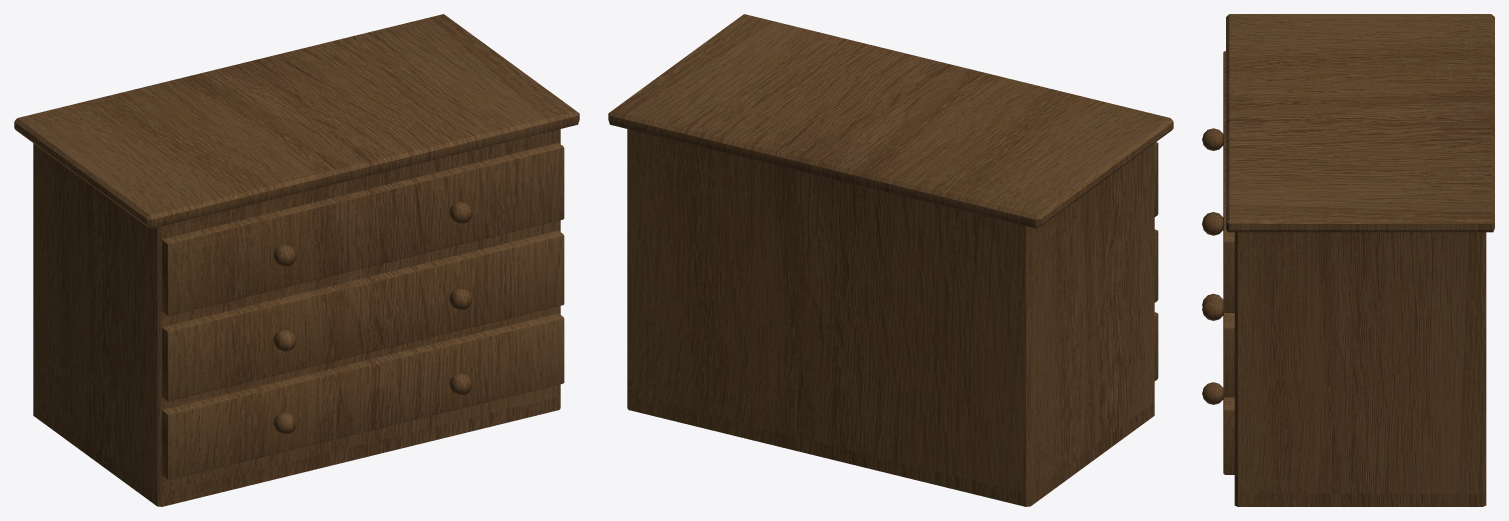
The model's file is Drawer2.fbx.
3 views of the same model, side by side, from view 1: azimuth 30°, elevation 25°; view 2: azimuth 150°, elevation 25°; view 3: azimuth 270°, elevation 25° (orthographic).
Parts seen in each view (by area): view 1: Drawer2; view 2: Drawer2; view 3: Drawer2.
Boxes of the visible parts, x1,y1,x2,y2 form: Drawer2: (14, 14, 579, 506); Drawer2: (608, 14, 1173, 506); Drawer2: (1202, 14, 1494, 506).
Size of the model in its own units: 14.43 by 9.47 by 8.57.
